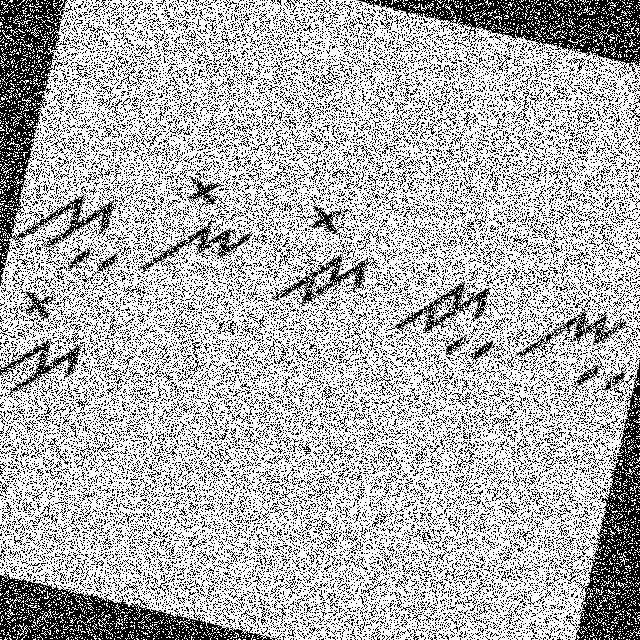jah: (381, 254, 512, 371)
jo: (260, 187, 384, 325)
nyah: (506, 277, 639, 406)
nyo: (130, 164, 266, 302)
sah: (8, 172, 134, 282)
so: (0, 276, 104, 413)
